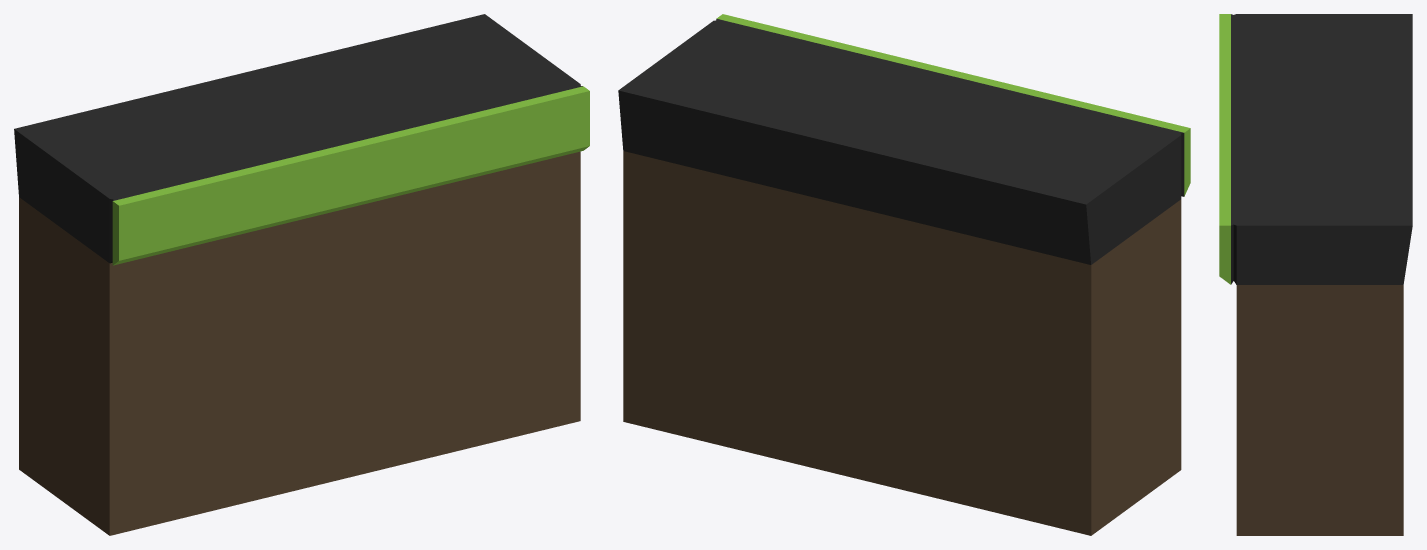
The model's file is reception_desk.fbx.
The picture shows the model from 3 angles, left to right: view 1: azimuth 30°, elevation 25°; view 2: azimuth 150°, elevation 25°; view 3: azimuth 270°, elevation 25°; orthographic projection. The views are drawn at different scales.
Parts seen in each view (by area): view 1: reception_desk; view 2: reception_desk; view 3: reception_desk.
Part boxes in pixels (x1,y1,x2,y2): reception_desk: (14, 14, 589, 535); reception_desk: (618, 14, 1190, 535); reception_desk: (1219, 14, 1412, 535).
Size of the model in its own units: 140 by 95.86 by 54.18.
